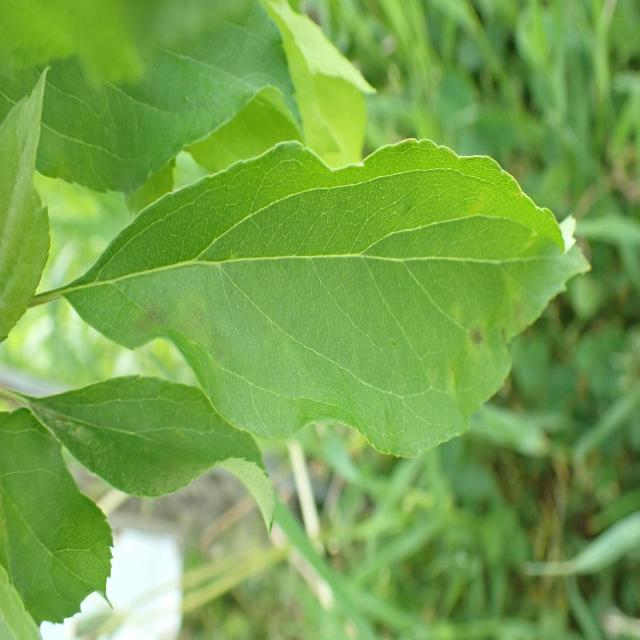scab: (87, 213, 554, 443)
